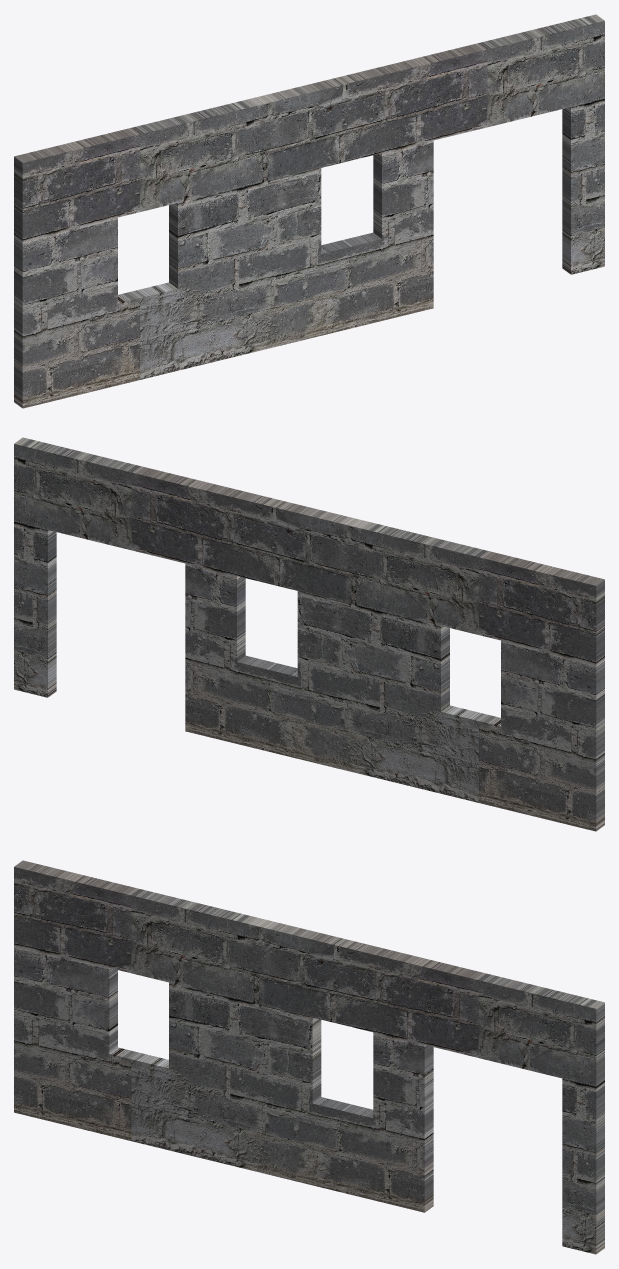
The model's file is mainWall01.fbx.
The picture shows the model from 3 angles, top to bottom: view 1: azimuth 30°, elevation 25°; view 2: azimuth 150°, elevation 25°; view 3: azimuth 330°, elevation 25°; orthographic projection.
Parts seen in each view (by area): view 1: Box052; view 2: Box052; view 3: Box052.
Part boxes in pixels (x1,y1,x2,y2): Box052: (14,14,604,408); Box052: (14,437,604,831); Box052: (14,860,604,1254).
Bounding box in the file's own units: 1143 × 461 × 30.
1 material, 1 textured.
